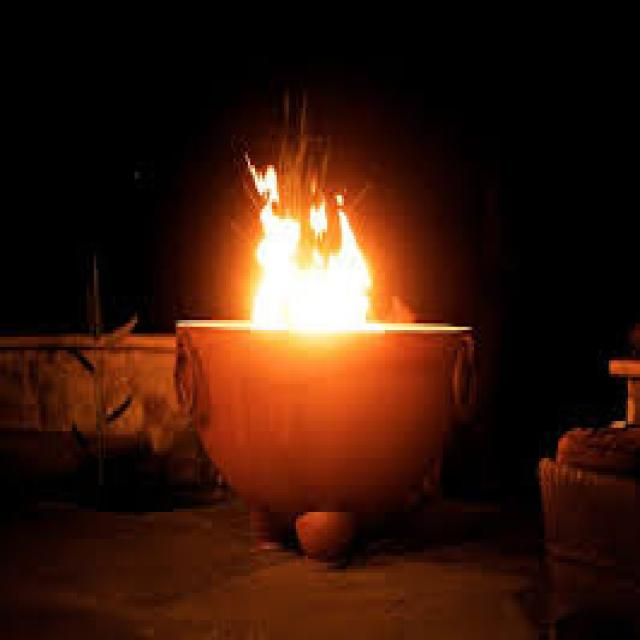fire: (244, 152, 371, 329)
